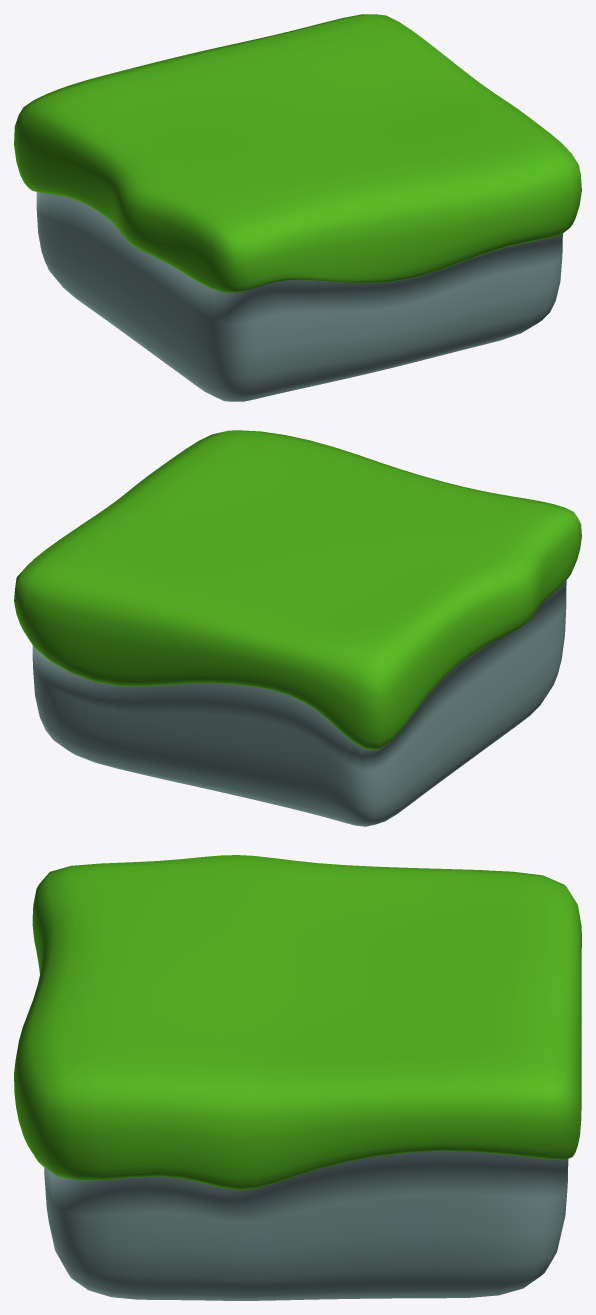
File: forest_platform.glb
3 views of the same model, one above another, from view 1: azimuth 30°, elevation 25°; view 2: azimuth 150°, elevation 25°; view 3: azimuth 270°, elevation 25° (orthographic). The views are drawn at different scales.
Visible parts, largest first — view 1: moving_platform; view 2: moving_platform; view 3: moving_platform.
Part boxes in pixels (<box>): moving_platform: <box>14,14,581,401</box>; moving_platform: <box>14,430,581,826</box>; moving_platform: <box>14,855,581,1300</box>.
Bounding box in the file's own units: 2.22 × 1.05 × 2.16.
